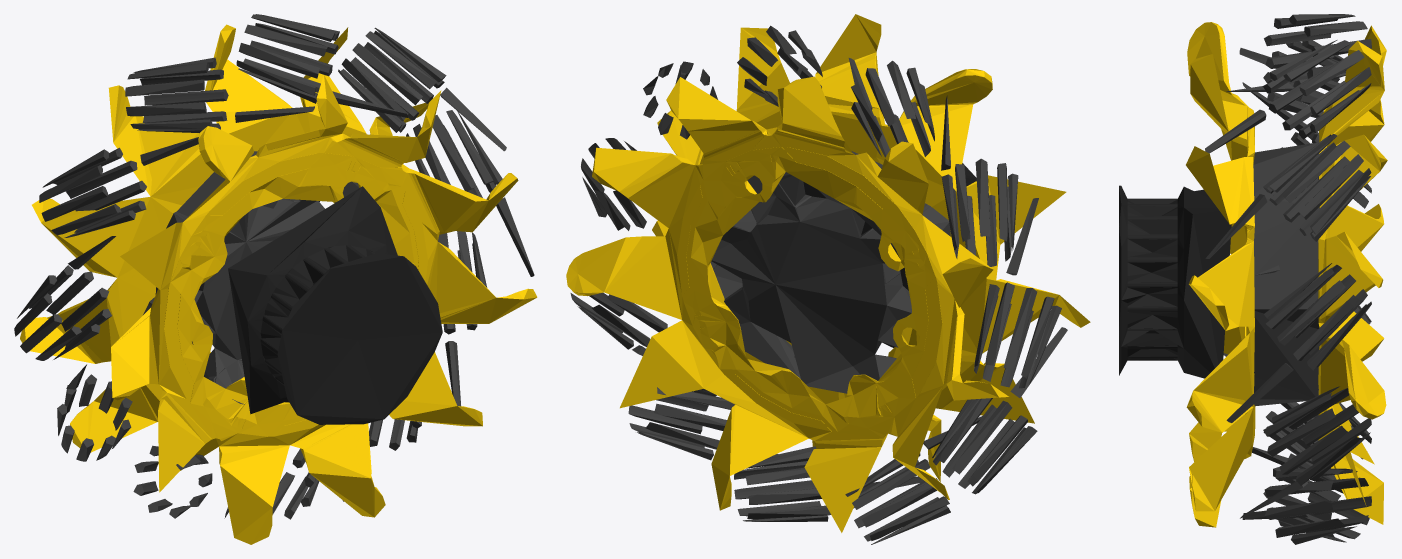
The model's file is wheelFR.glb.
3 renders of one model, left to right at view 1: azimuth 30°, elevation 25°; view 2: azimuth 150°, elevation 25°; view 3: azimuth 270°, elevation 25°, orthographic.
Visible parts, largest first — view 1: wheelFR_1, wheelFR_2, wheelFR_0; view 2: wheelFR_1, wheelFR_2; view 3: wheelFR_2, wheelFR_1, wheelFR_0.
Part boxes in pixels (left/top/right/bottom): wheelFR_1: left=20, top=24, right=537, bottom=544; wheelFR_2: left=14, top=14, right=534, bottom=519; wheelFR_0: left=228, top=186, right=442, bottom=424; wheelFR_1: left=566, top=14, right=1090, bottom=532; wheelFR_2: left=570, top=25, right=1067, bottom=544; wheelFR_2: left=1205, top=14, right=1371, bottom=544; wheelFR_1: left=1186, top=22, right=1387, bottom=527; wheelFR_0: left=1119, top=185, right=1231, bottom=378.
Bounding box in the file's own units: 3.95 × 3.97 × 2.
